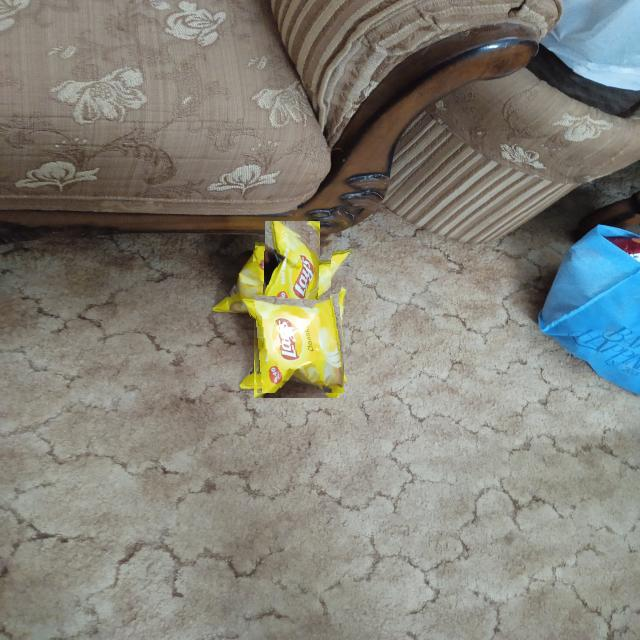Plastic: (249, 298, 344, 393), (253, 232, 332, 313)
